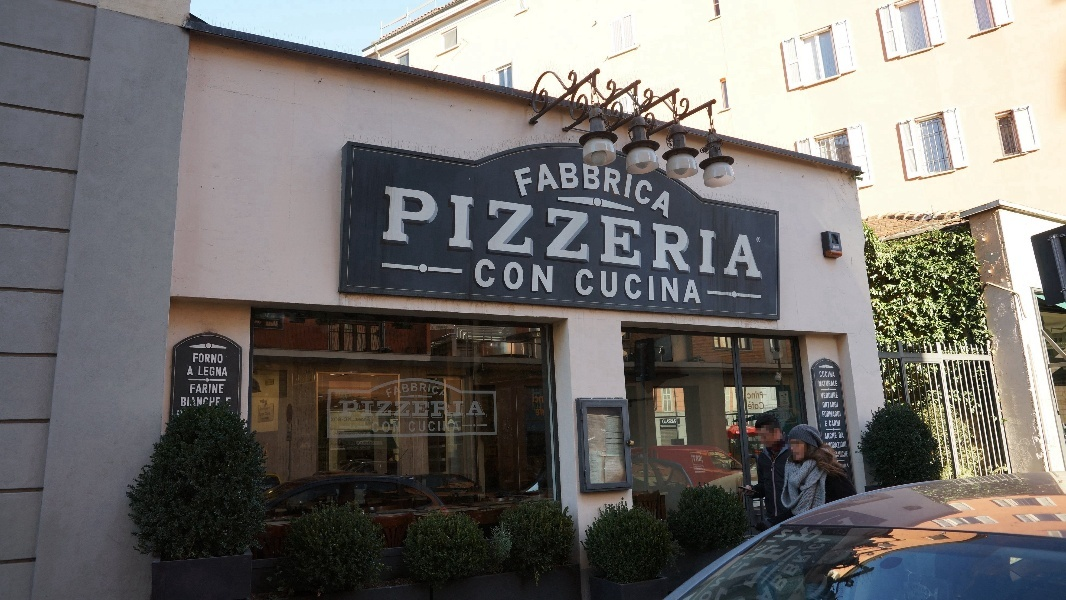text: (385, 185, 400, 280), (401, 185, 416, 280), (417, 185, 432, 280), (433, 185, 448, 280), (449, 185, 464, 280), (465, 185, 480, 280), (481, 185, 496, 280), (497, 185, 512, 280), (513, 185, 528, 280), (529, 185, 544, 280), (545, 185, 560, 280), (561, 185, 576, 280), (577, 185, 592, 280), (593, 185, 608, 280), (609, 185, 624, 280), (625, 185, 640, 280), (641, 185, 656, 280), (657, 185, 672, 280), (673, 185, 688, 280), (689, 185, 704, 280), (705, 185, 720, 280), (721, 185, 736, 280), (737, 185, 752, 280), (753, 185, 764, 280), (513, 153, 528, 221), (529, 153, 544, 221), (545, 153, 560, 221), (561, 153, 576, 221), (577, 153, 592, 221), (593, 153, 608, 221), (609, 153, 624, 221), (625, 153, 640, 221), (641, 153, 656, 221), (817, 538, 833, 600), (737, 523, 752, 589), (753, 523, 768, 589), (769, 523, 784, 589), (785, 523, 800, 589), (801, 523, 816, 589), (657, 153, 671, 221), (785, 538, 800, 600), (801, 538, 816, 600), (725, 523, 736, 589), (774, 538, 784, 600), (753, 529, 768, 570), (769, 529, 784, 570), (817, 523, 826, 589), (577, 269, 592, 305), (593, 269, 608, 305), (609, 269, 624, 305), (625, 269, 640, 305), (641, 269, 656, 305), (657, 269, 672, 305), (673, 269, 688, 305), (481, 258, 496, 293), (497, 258, 512, 293), (513, 258, 528, 293), (529, 258, 544, 293), (740, 529, 752, 570), (689, 269, 702, 305), (785, 529, 795, 570), (545, 258, 554, 293), (353, 400, 368, 419), (369, 400, 384, 419), (385, 400, 400, 419), (401, 400, 416, 419), (417, 400, 432, 419), (433, 400, 448, 419), (449, 400, 464, 419), (465, 400, 480, 419), (508, 153, 512, 221), (339, 400, 352, 419), (385, 383, 400, 399), (401, 383, 416, 399), (417, 383, 432, 399), (710, 577, 720, 600), (433, 383, 446, 399), (193, 353, 208, 364), (385, 422, 400, 433), (417, 421, 432, 432), (433, 421, 448, 432), (209, 353, 223, 364), (481, 400, 489, 419), (209, 367, 224, 377), (193, 397, 208, 407), (193, 384, 208, 394), (209, 384, 224, 394), (226, 397, 240, 407), (721, 577, 727, 600), (372, 422, 384, 433), (449, 421, 460, 432), (209, 397, 221, 407), (181, 397, 192, 407), (753, 401, 765, 410), (477, 258, 480, 293), (769, 412, 784, 419), (833, 451, 848, 458), (198, 367, 208, 377), (533, 394, 544, 403), (833, 442, 847, 449), (755, 412, 768, 419), (536, 405, 544, 416), (818, 381, 832, 387), (820, 371, 832, 378), (753, 391, 763, 399), (409, 421, 416, 432), (260, 406, 272, 412), (692, 456, 704, 462), (822, 411, 832, 418), (757, 237, 768, 243), (821, 393, 832, 399), (785, 412, 794, 419), (833, 411, 842, 418), (356, 417, 368, 422), (822, 402, 832, 408), (745, 391, 752, 399), (833, 420, 841, 427), (824, 442, 832, 449), (839, 433, 848, 439), (259, 412, 272, 416), (825, 433, 832, 440), (356, 441, 368, 445), (357, 433, 368, 437), (825, 421, 832, 427), (344, 417, 352, 422), (662, 420, 672, 424), (748, 401, 752, 410), (833, 402, 839, 408), (833, 433, 838, 440), (693, 465, 704, 468), (337, 445, 345, 449), (382, 383, 384, 399), (840, 464, 848, 468), (225, 367, 228, 377), (833, 381, 838, 387), (833, 393, 838, 399), (265, 412, 272, 416), (337, 440, 343, 444), (360, 446, 368, 449), (778, 419, 784, 423), (345, 433, 352, 436), (829, 420, 832, 427), (833, 371, 836, 378), (331, 418, 336, 422), (337, 418, 342, 422), (331, 445, 336, 449), (694, 469, 704, 471), (190, 367, 192, 376), (337, 432, 343, 435), (346, 442, 352, 445), (353, 446, 359, 449), (673, 420, 677, 424), (265, 417, 272, 419), (333, 440, 336, 444), (348, 446, 352, 449), (191, 384, 192, 394), (369, 417, 371, 422), (333, 432, 336, 435), (353, 442, 356, 445), (785, 419, 787, 423), (785, 402, 789, 404), (353, 433, 355, 436), (781, 402, 784, 404), (785, 400, 787, 402), (849, 464, 850, 468), (369, 446, 370, 449), (783, 400, 784, 402)
